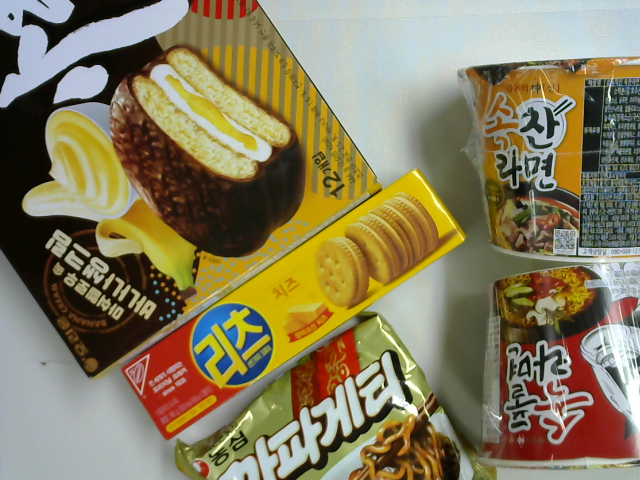Choco_Pie_Banana: (1, 1, 382, 380)
Hejangchan: (453, 52, 640, 262)
Hejangpul: (479, 262, 640, 471)
Olive_Chapaghetti: (170, 310, 497, 480)
Ritz_Sand_Cracker: (118, 168, 468, 441)
